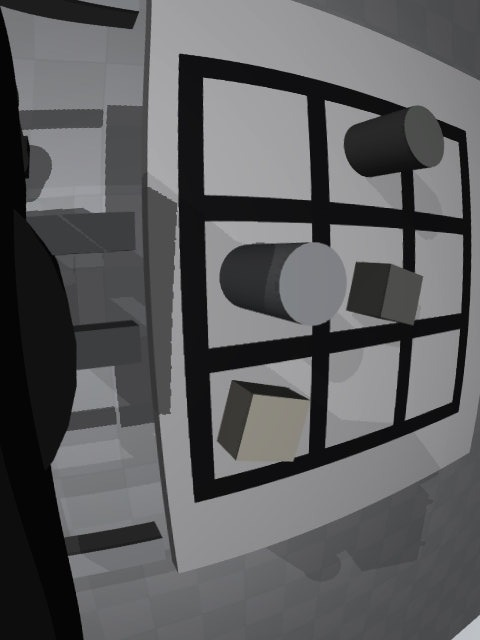can: (219, 242, 347, 326)
cube: (347, 262, 424, 325)
cylinder: (344, 105, 444, 178)
foam: (217, 380, 310, 462)
